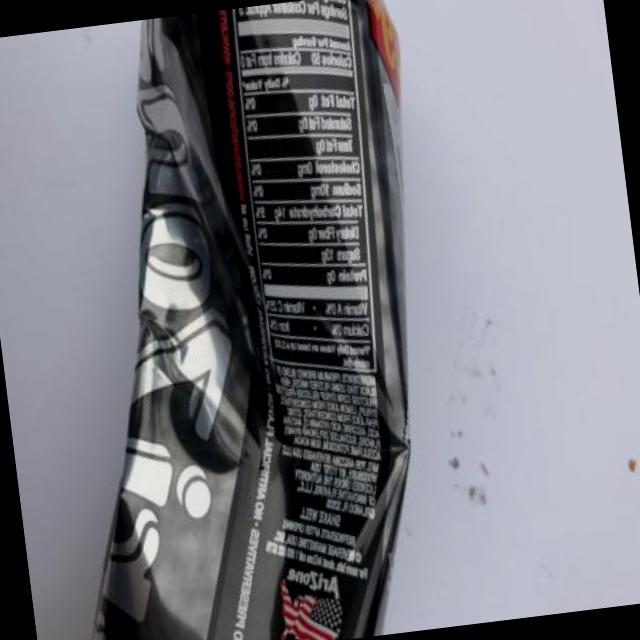kim_loai: (89, 0, 411, 640)
